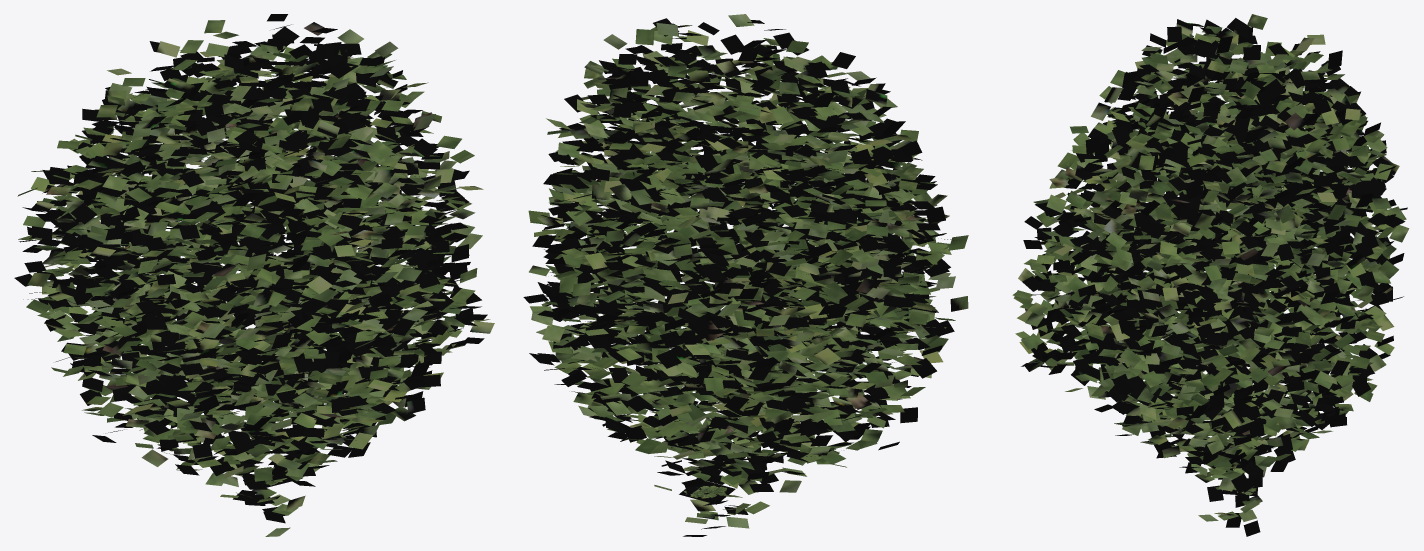
File: oak2.glb
3 views of the same model, side by side, from view 1: azimuth 30°, elevation 25°; view 2: azimuth 150°, elevation 25°; view 3: azimuth 270°, elevation 25° (orthographic). The views are drawn at different scales.
Visible parts, largest first — view 1: Cube.001; view 2: Cube.001, branch; view 3: Cube.001.
Boxes of the visible parts, left/top/right/bottom form: Cube.001: left=14, top=14, right=494, bottom=536; Cube.001: left=523, top=14, right=968, bottom=536; branch: left=679, top=481, right=735, bottom=504; Cube.001: left=1012, top=14, right=1409, bottom=536.
Size of the model in its own units: 13.74 by 14.47 by 11.55.
Materials: 1 (1 with a texture image).
